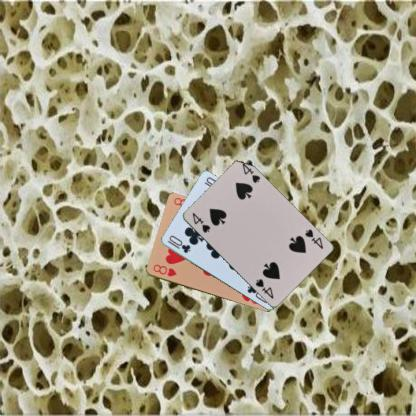10c: (165, 233, 191, 254)
4s: (190, 210, 212, 234), (302, 227, 324, 250)
8h: (150, 262, 178, 278)
